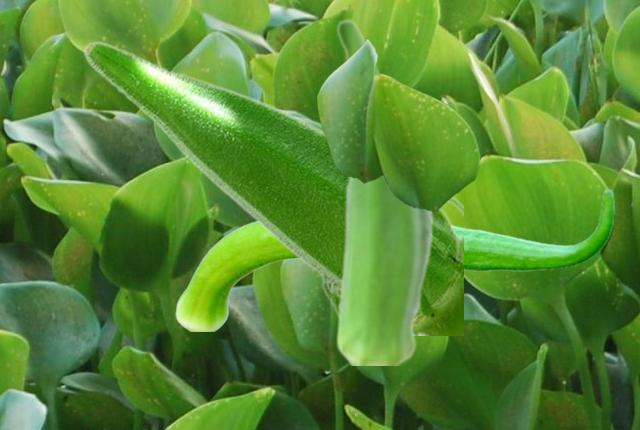okra: (82, 40, 462, 334), (175, 188, 614, 330), (335, 18, 433, 364)
